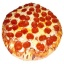pepperoni: (39, 34, 58, 46), (15, 39, 32, 50), (24, 7, 39, 18), (17, 17, 29, 28), (34, 16, 44, 29), (25, 30, 36, 40), (6, 12, 14, 20)
pizza: (3, 3, 62, 63)
